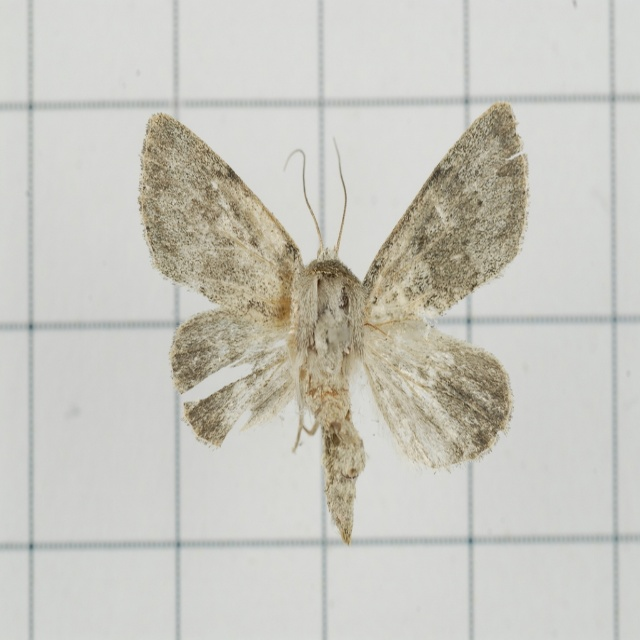Moths and butterflies: (141, 95, 528, 552)
